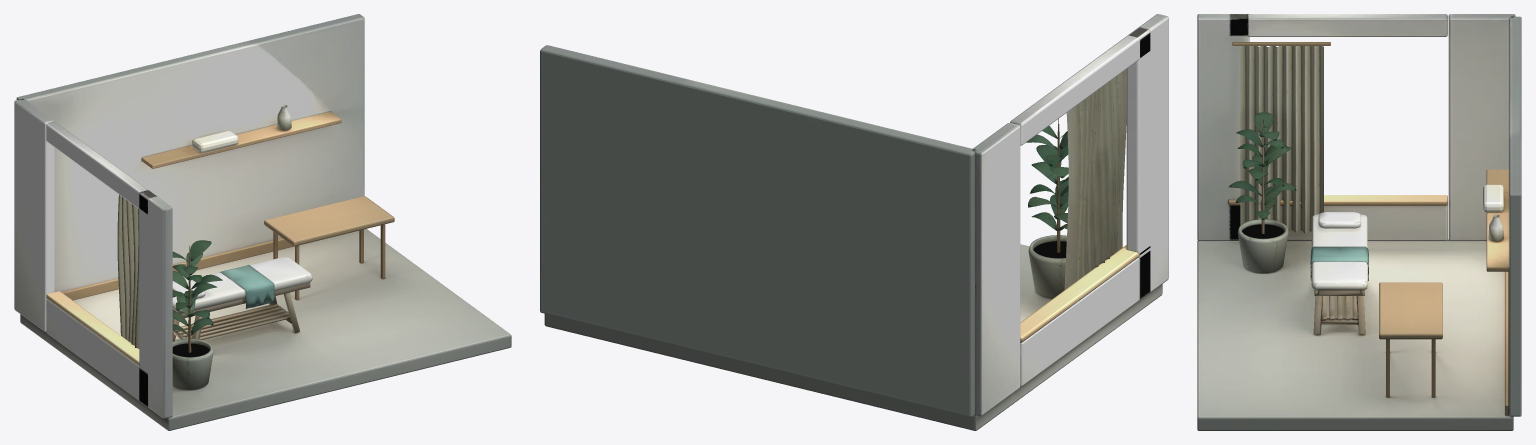
File: sala.low.glb
3 views of the same model, side by side, from view 1: azimuth 30°, elevation 25°; view 2: azimuth 150°, elevation 25°; view 3: azimuth 270°, elevation 25° (orthographic). The views are drawn at different scales.
Parts seen in each view (by area): view 1: Sala_camilla, Cortina_lino; view 2: Sala_camilla, Cortina_lino; view 3: Sala_camilla, Cortina_lino.
Boxes of the visible parts, x1=… form: Sala_camilla: x1=14, y1=14, x2=511, y2=430; Cortina_lino: x1=117, y1=194, x2=139, y2=348; Sala_camilla: x1=540, y1=14, x2=1168, y2=430; Cortina_lino: x1=1064, y1=69, x2=1126, y2=289; Sala_camilla: x1=1197, y1=14, x2=1521, y2=430; Cortina_lino: x1=1240, y1=46, x2=1323, y2=233.
Size of the model in its own units: 4.87 by 2.98 by 3.69.
Materials: 1 (1 with a texture image).
